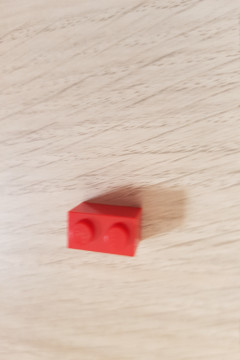1x2 red: (66, 201, 144, 258)
